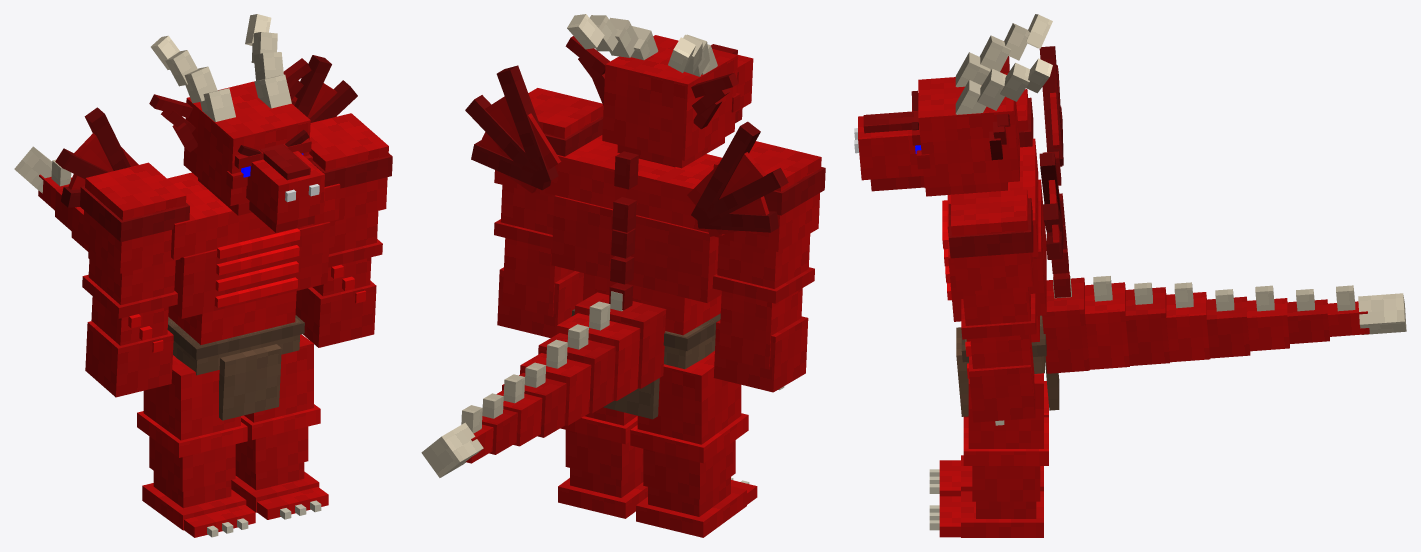
The model's file is dragonoid_s0.glb.
3 views of the same model, side by side, from view 1: azimuth 30°, elevation 25°; view 2: azimuth 150°, elevation 25°; view 3: azimuth 270°, elevation 25° (orthographic). The views are drawn at different scales.
Parts seen in each view (by area): view 1: Torso, Head, ArmR, ArmL, LegR, LegL, Root; view 2: Torso, Head, ArmR, LegR, ArmL, LegL; view 3: Torso, Head, ArmL, LegL, LegR, ArmR.
Boxes of the visible parts, box(x1,y1,x2,y2) form: Torso: box(14, 55, 357, 420); Head: box(149, 14, 324, 232); ArmR: box(80, 162, 189, 397); ArmL: box(295, 113, 392, 347); LegR: box(137, 355, 255, 537); LegL: box(231, 334, 328, 519); Root: box(207, 500, 321, 537); Torso: box(421, 65, 788, 477); Head: box(565, 14, 753, 168); ArmR: box(712, 141, 825, 392); LegR: box(630, 350, 757, 537); ArmL: box(494, 88, 603, 337); LegL: box(558, 407, 647, 518); Torso: box(942, 46, 1406, 416); Head: box(854, 14, 1052, 196); ArmL: box(948, 189, 1036, 425); LegL: box(939, 373, 1048, 537); LegR: box(939, 381, 1048, 496); ArmR: box(1016, 89, 1033, 147).
Size of the model in its own units: 1.38 by 2.05 by 2.2.
29 materials, 29 textured.
